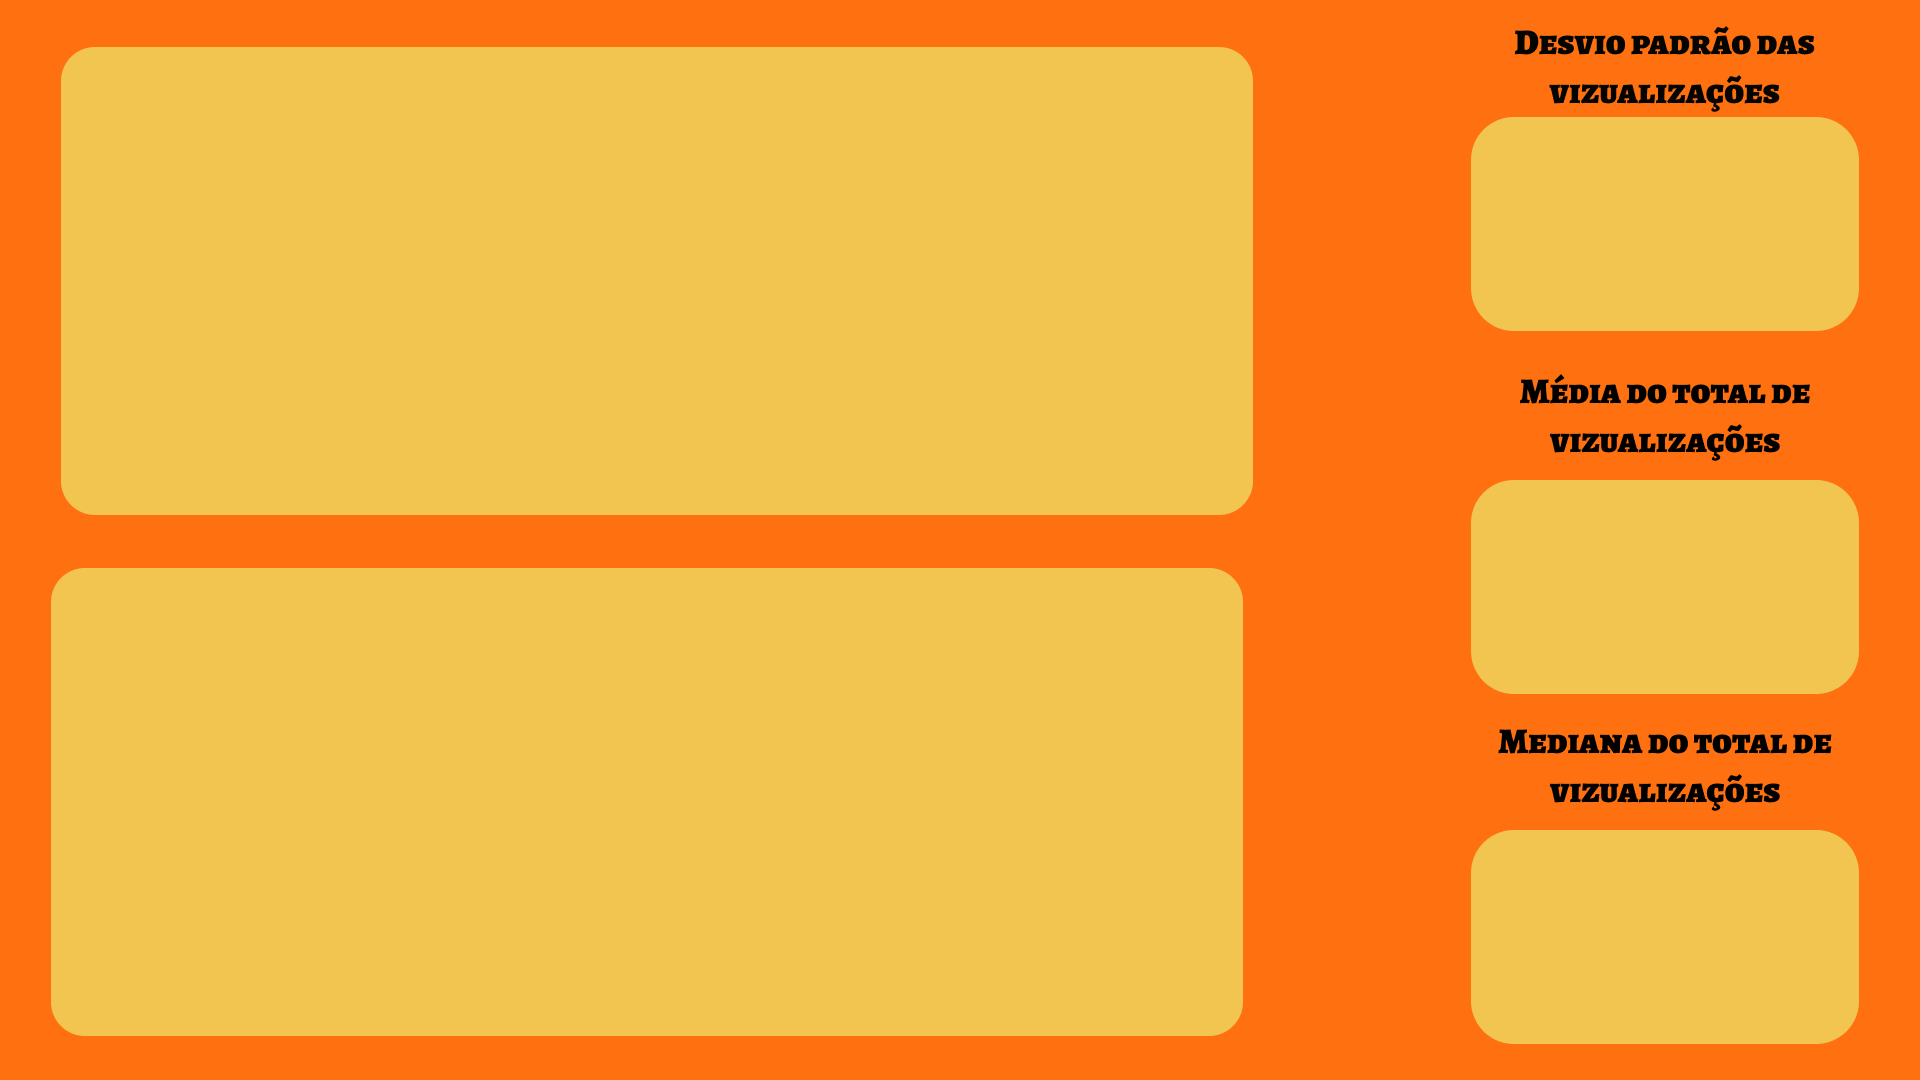

The page's visual inventory and layout, read from the dashboard file:
{"tool":"powerbi","page":{"name":"Total de vizualizações","canvas":[1280,720],"ordinal":1},"visuals":[{"type":"areaChart","fields":{"Category":["superbowl_commercials.Ano"],"Y":["Sum(superbowl_commercials.Total de vizualizações)"]},"box":[45.2,35.9,794.8,309.7],"z":0},{"type":"donutChart","title":"Total de visualizações por marca","fields":{"Category":["superbowl_commercials.Marca"],"Y":["Sum(superbowl_commercials.Total de vizualizações)"]},"box":[45.2,381.5,784.2,311],"z":1000},{"type":"card","title":"Desvio padrão das vizualizações","fields":{"Values":["Sum(superbowl_commercials.Total de vizualizações)"]},"box":[1024.8,111.7,166.1,65.1],"z":2000},{"type":"card","title":"Média do total de visualizações","fields":{"Values":["Avg(superbowl_commercials.Total de vizualizações)"]},"box":[1034.2,350.4,145.7,62.6],"z":3000},{"type":"card","title":"Mediana do total de visualizações","fields":{"Values":["Median(superbowl_commercials.Total de vizualizações)"]},"box":[1020.8,579.5,186.1,81.1],"z":4000}]}

Visuals, with their boxes in screenshot pixels (x1, y1, x2, y2), scaled from the page's 1280x720 canvas onto the 1920x1080 screenshot:
areaChart - superbowl_commercials.Ano x Sum(superbowl_commercials.Total de vizualizações): x1=68 y1=54 x2=1260 y2=518
"Total de visualizações por marca" donutChart: x1=68 y1=572 x2=1244 y2=1039
"Desvio padrão das vizualizações" card: x1=1537 y1=168 x2=1786 y2=265
"Média do total de visualizações" card: x1=1551 y1=526 x2=1770 y2=620
"Mediana do total de visualizações" card: x1=1531 y1=869 x2=1810 y2=991
